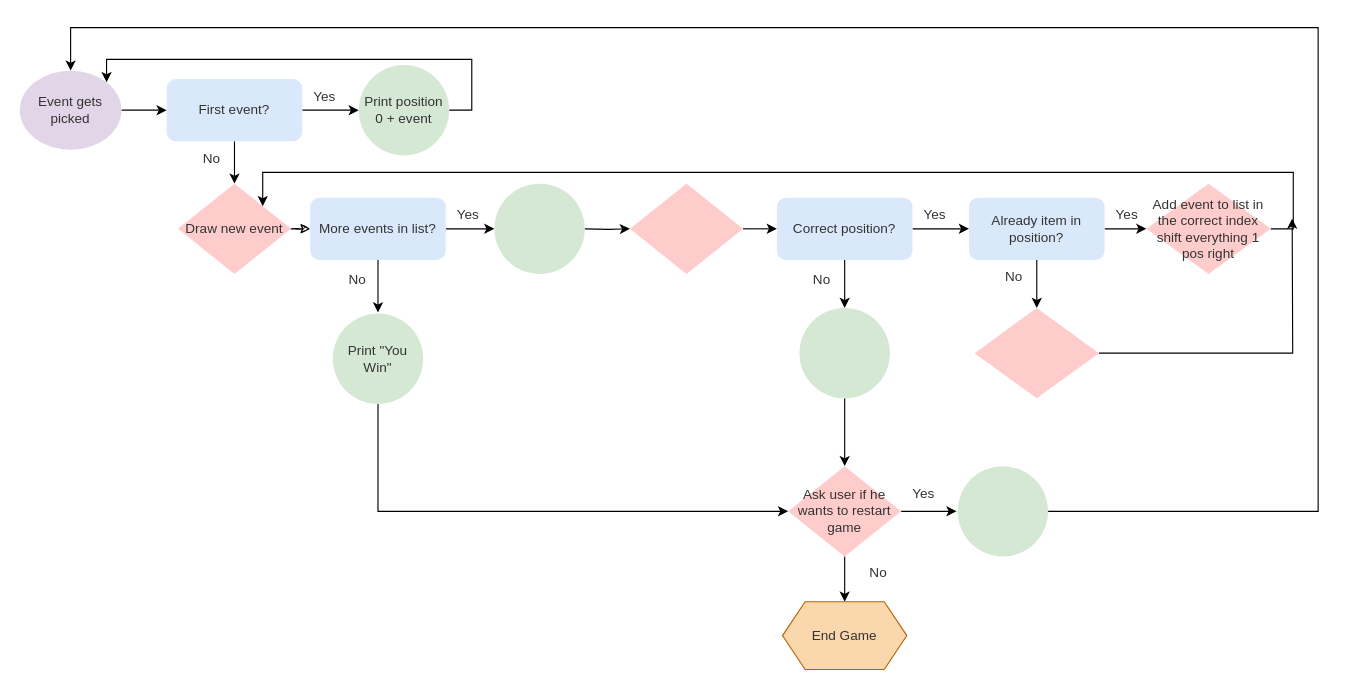
The diagram is 1347 pixels wide and 689 high, and some of its shapes have lost their labels. The centre of each missing label's shape, as x and y in pixels:
Add event to list in the correct index: the point at 1036,352
Ask user for position: the point at 685,228
Clear game: the point at 1002,511
Print "You lost": the point at 844,352
Print event: the point at 539,228
